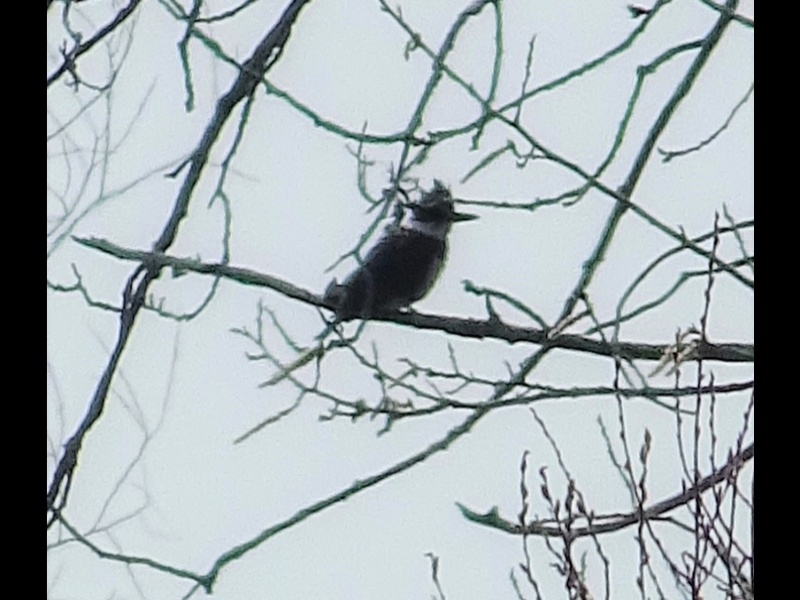kingfisher: (317, 179, 476, 337)
